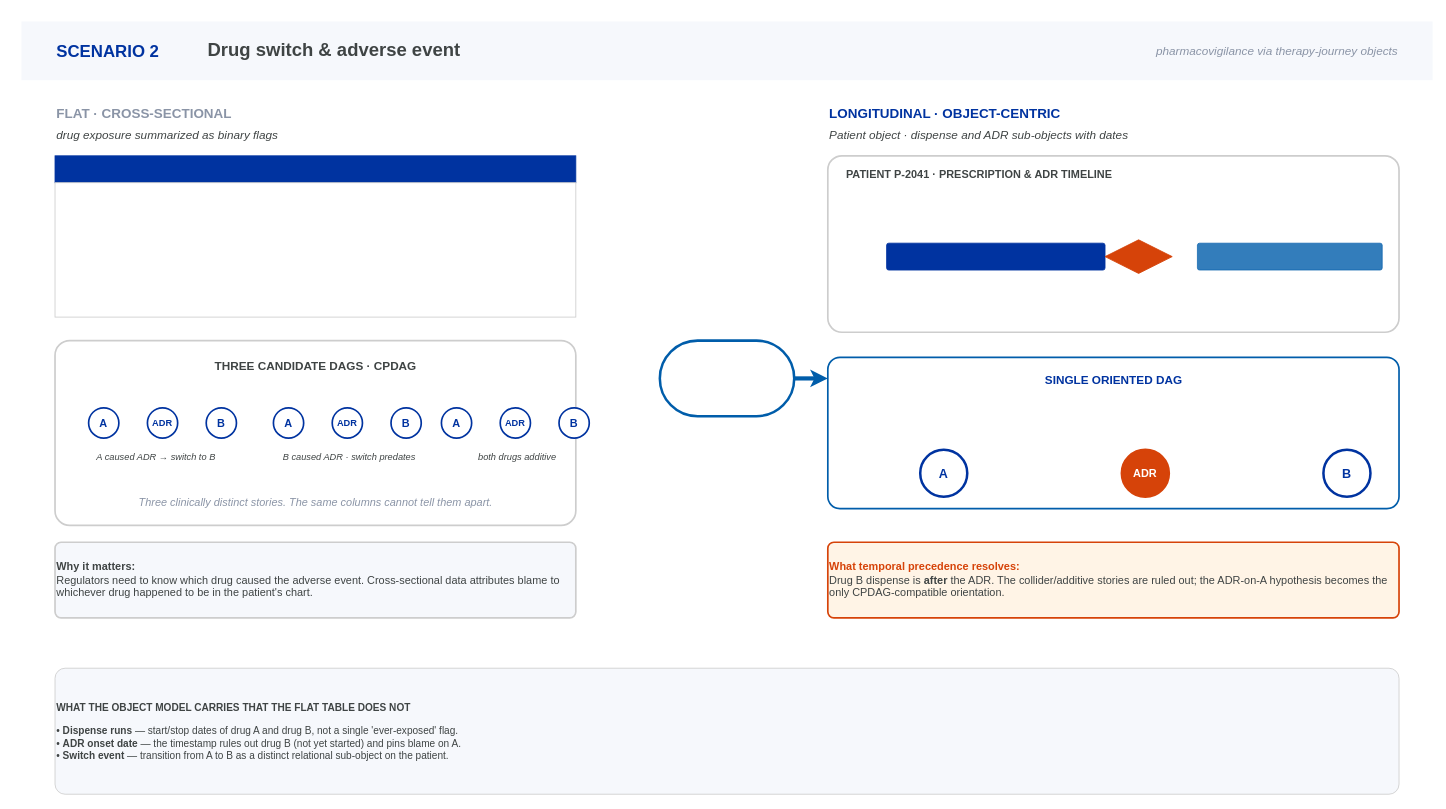
This 1446x809 diagram has some shape labels left out. Each missing label, with the centre of its shape:
"ADR day 120" goes at pixel 1138 256.
"drug A · days 0–120" goes at pixel 995 256.
"drug B · day 140+" goes at pixel 1289 256.
"P-2041 1 1 1 P-2107 1 0 0 P-2188 0 1 1 P-2256 1 1 1 P-2331 1 0 1 · · ·" goes at pixel 315 249.
"patient_id | drug_A | drug_B | ADR" goes at pixel 315 169.
"therapy journey object" goes at pixel 726 378.
